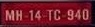character: (5, 9, 14, 21), (15, 9, 22, 21), (66, 8, 73, 20), (81, 8, 88, 20), (34, 9, 41, 20), (53, 9, 60, 20), (74, 9, 81, 20), (46, 8, 52, 20), (28, 9, 33, 21)
